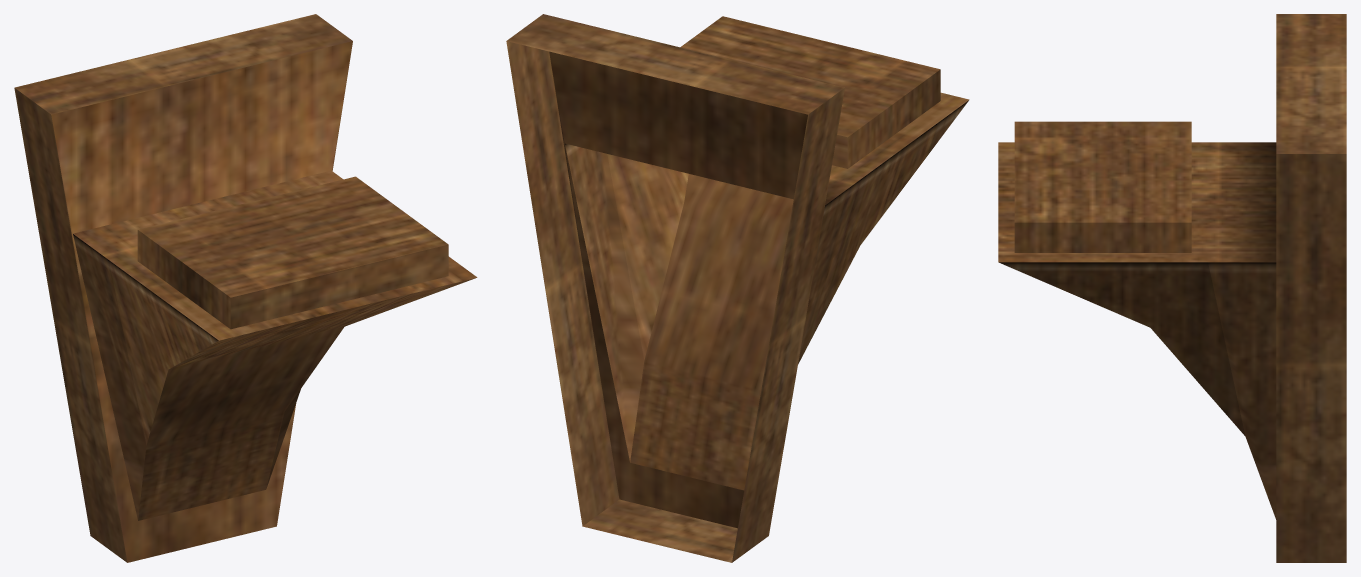
File: M_Home_Garden_Candle_holder_13.fbx
3 views of the same model, side by side, from view 1: azimuth 30°, elevation 25°; view 2: azimuth 150°, elevation 25°; view 3: azimuth 270°, elevation 25° (orthographic). The views are drawn at different scales.
Visible parts, largest first — view 1: M_Home_Garden_Candle_holder_13; view 2: M_Home_Garden_Candle_holder_13; view 3: M_Home_Garden_Candle_holder_13.
Part boxes in pixels (bbox=[...]): M_Home_Garden_Candle_holder_13: bbox=[14, 14, 477, 562]; M_Home_Garden_Candle_holder_13: bbox=[506, 14, 969, 562]; M_Home_Garden_Candle_holder_13: bbox=[998, 14, 1346, 562].
Bounding box in the file's own units: 12.17 × 17.99 × 12.79.
